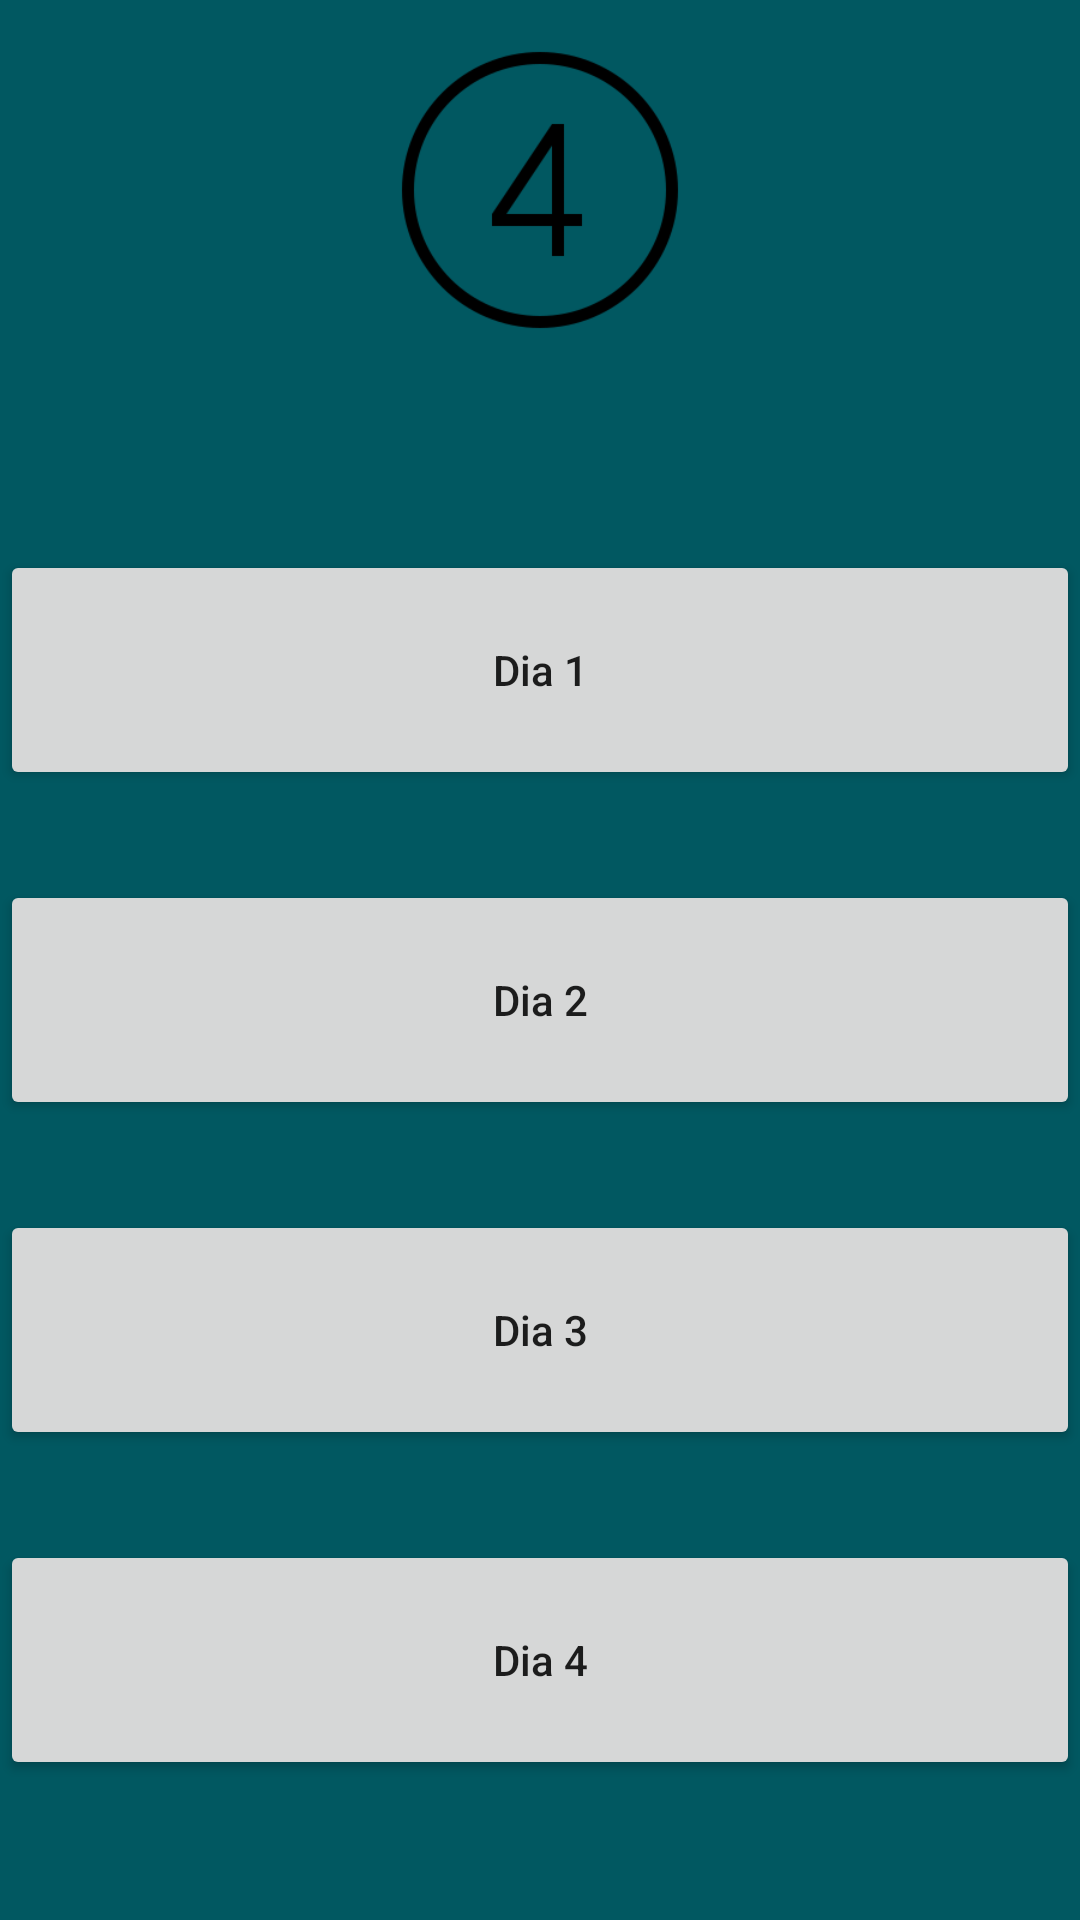

Icons on this 1080x1920 Android screen, each with its box as (x1, y1, x2, y2):
circle: (402, 52, 678, 328)
